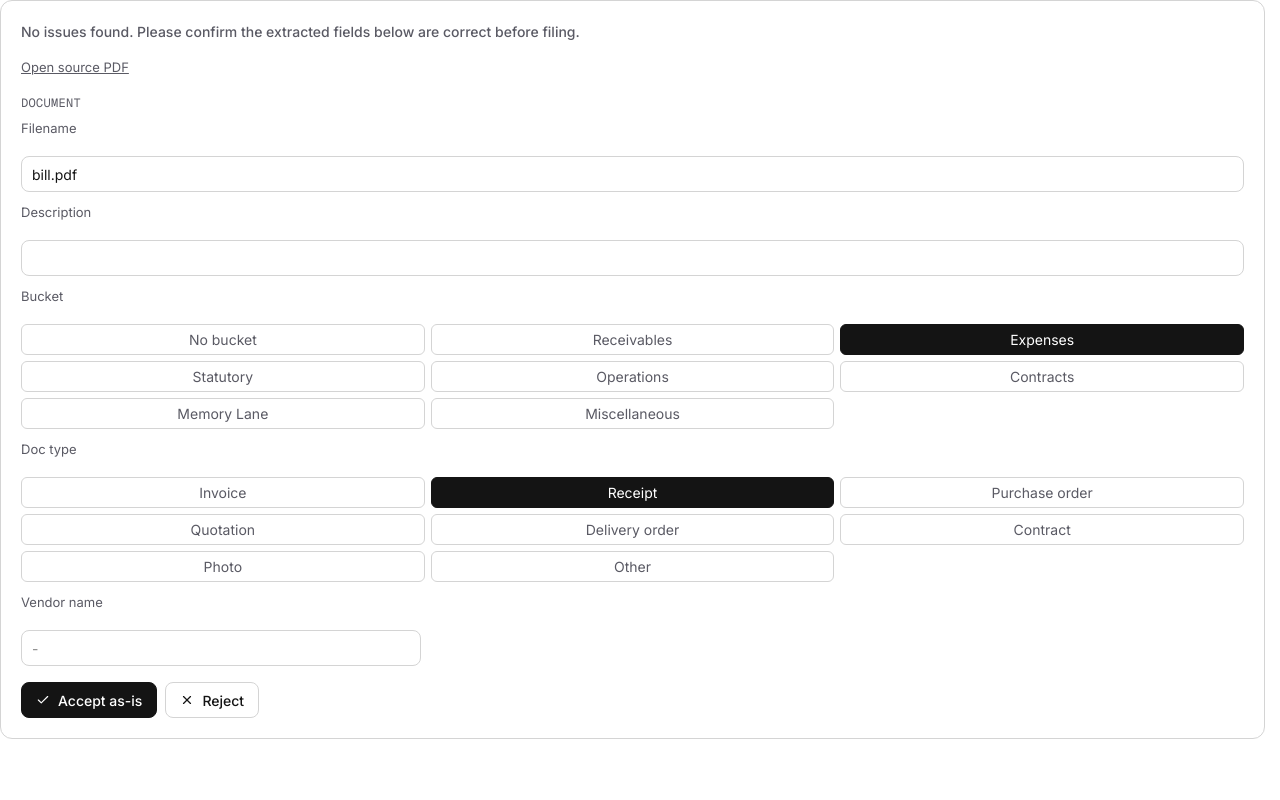
Test: review card source preview (item 4) › a PDF preview also opens the viewer instead of a raw blob link
Click the button "Open source PDF": (75, 68) left=21, top=58, right=129, bottom=78
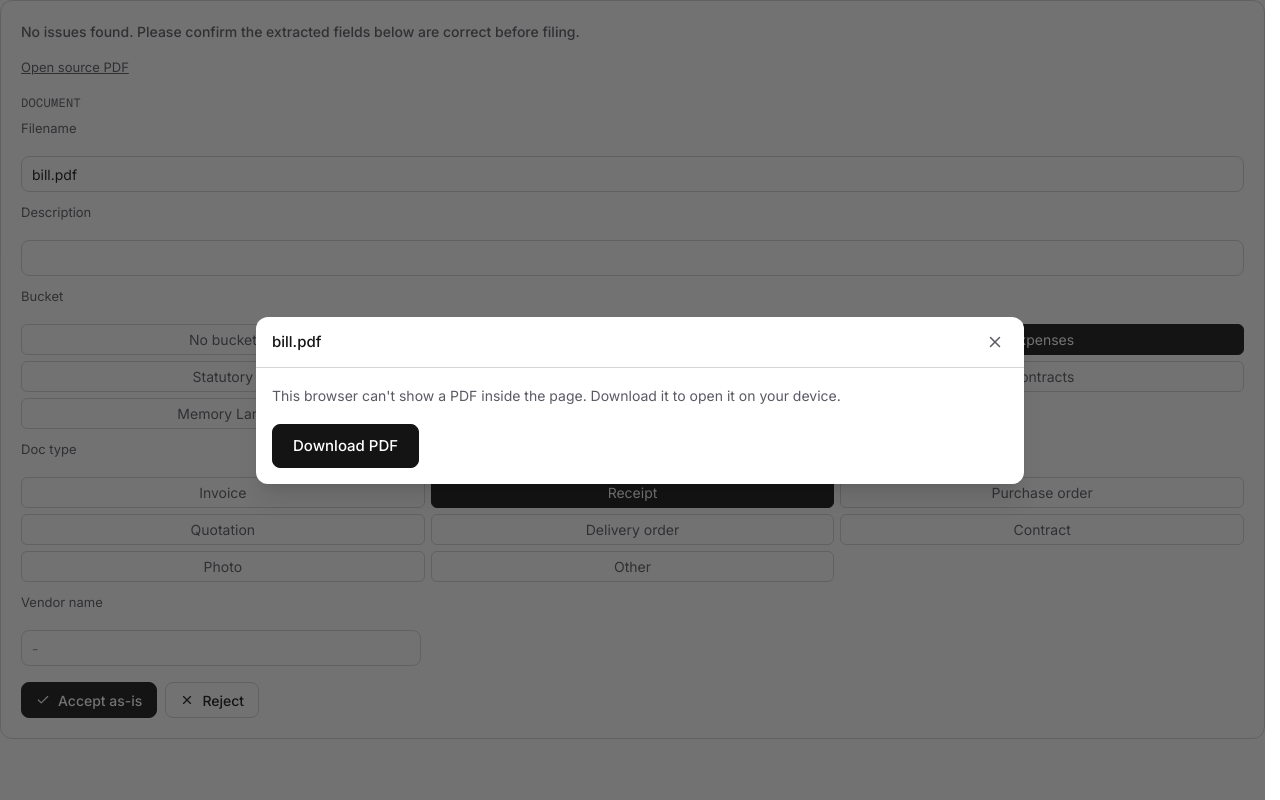
Expected: the dialog "bill.pdf" is shown
